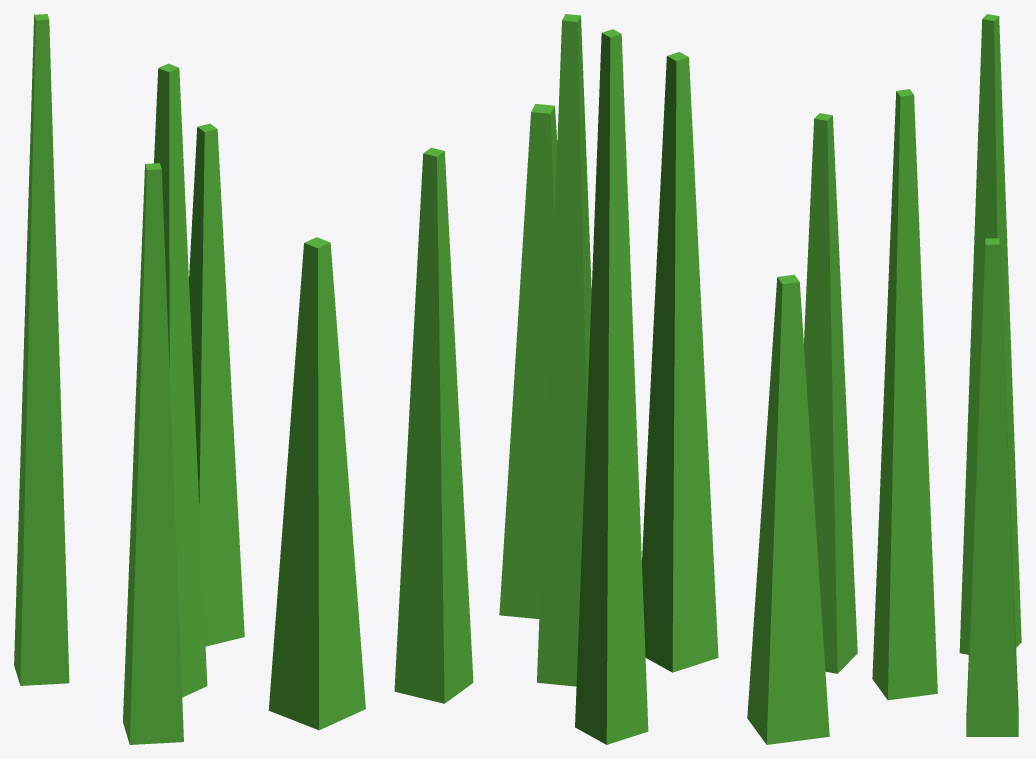
Rendered from Grass_06.fbx.
The picture shows the model from 3 angles, left to right: view 1: azimuth 30°, elevation 25°; view 2: azimuth 150°, elevation 25°; view 3: azimuth 270°, elevation 25°; orthographic projection. The views are drawn at different scales.
Parts seen in each view (by area): view 1: Grass_06; view 2: Grass_06; view 3: Grass_06.
Boxes of the visible parts, box(x1,y1,x2,y2) form: Grass_06: box(14, 14, 365, 744); Grass_06: box(394, 14, 718, 744); Grass_06: box(747, 14, 1021, 744).
Bounding box in the file's own units: 36.87 × 98.32 × 38.8.
